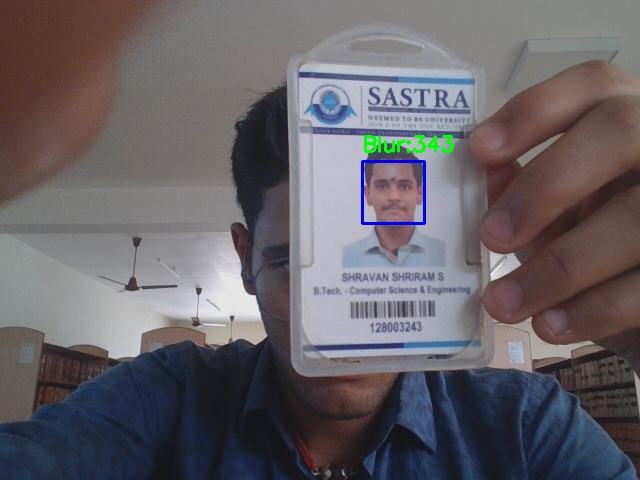fake: (362, 161, 424, 223)
